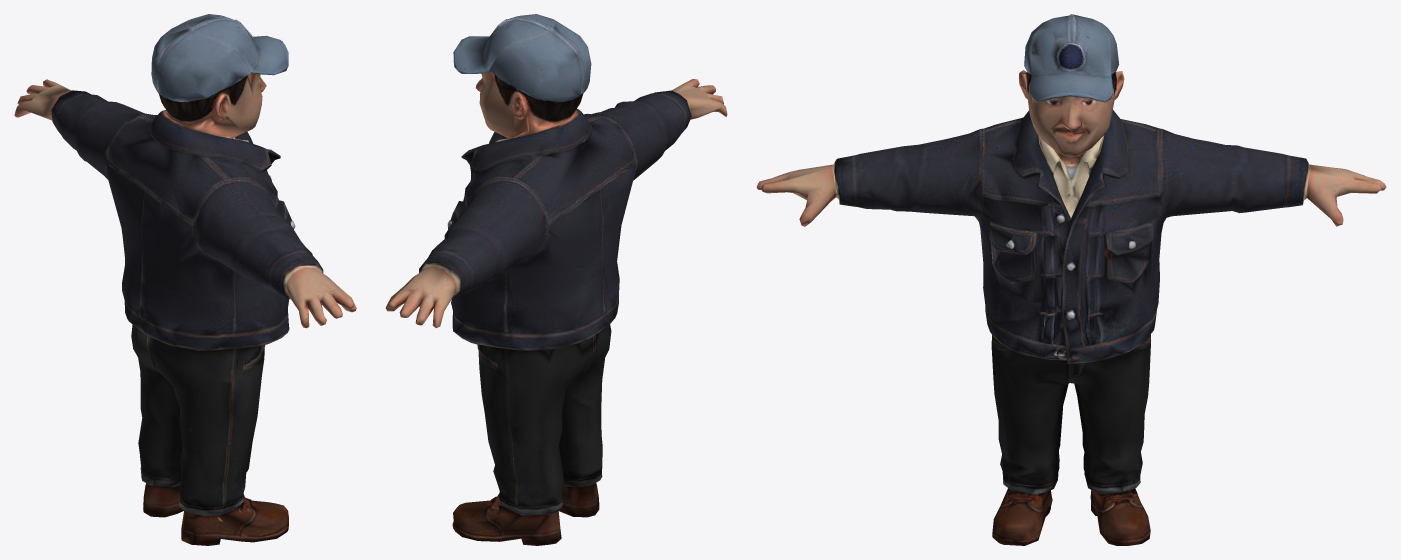
The model's file is majeux.glb.
3 renders of one model, left to right at view 1: azimuth 30°, elevation 25°; view 2: azimuth 150°, elevation 25°; view 3: azimuth 270°, elevation 25°, orthographic.
Visible parts, largest first — view 1: tripo_node_c03c8ed2-2d0d-46ee-a043-4de8a7cff4b1; view 2: tripo_node_c03c8ed2-2d0d-46ee-a043-4de8a7cff4b1; view 3: tripo_node_c03c8ed2-2d0d-46ee-a043-4de8a7cff4b1.
Part boxes in pixels (x1=…): tripo_node_c03c8ed2-2d0d-46ee-a043-4de8a7cff4b1: x1=14, y1=14, x2=356, y2=545; tripo_node_c03c8ed2-2d0d-46ee-a043-4de8a7cff4b1: x1=385, y1=14, x2=727, y2=545; tripo_node_c03c8ed2-2d0d-46ee-a043-4de8a7cff4b1: x1=756, y1=14, x2=1386, y2=545.
Bounding box in the file's own units: 0.5284 × 1.75 × 1.98.
1 material, 1 textured.
